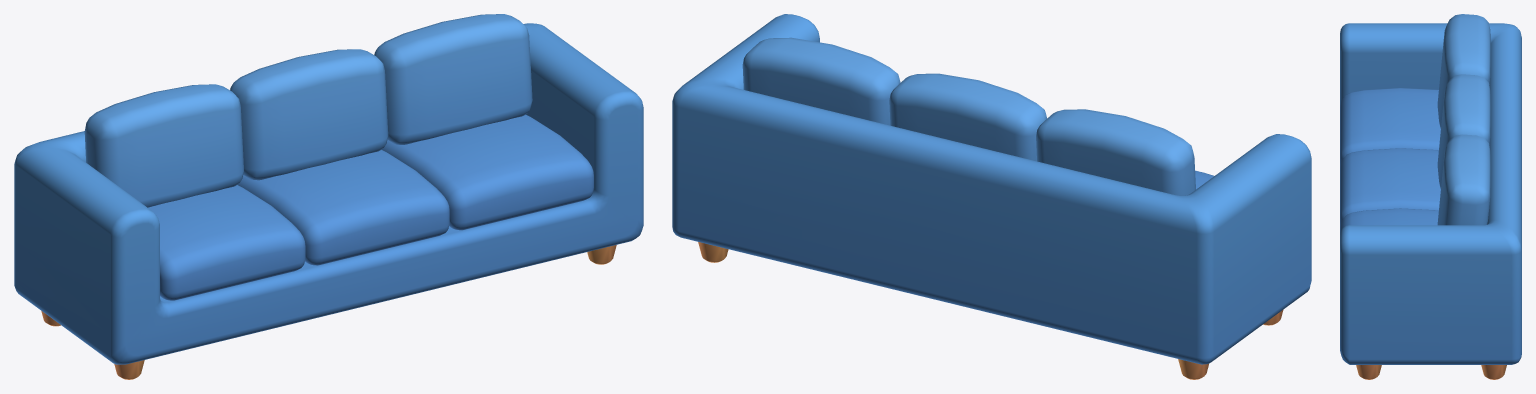
Rendered from Couch_08.glb.
The picture shows the model from 3 angles, left to right: view 1: azimuth 30°, elevation 25°; view 2: azimuth 150°, elevation 25°; view 3: azimuth 270°, elevation 25°; orthographic projection. The views are drawn at different scales.
Parts seen in each view (by area): view 1: Couch_08; view 2: Couch_08; view 3: Couch_08.
Boxes of the visible parts, <box> form: Couch_08: <box>14,14,643,379</box>; Couch_08: <box>672,14,1311,379</box>; Couch_08: <box>1340,14,1521,379</box>.
Size of the model in its own units: 2.21 by 0.8622 by 0.765.
1 material, 1 textured.
